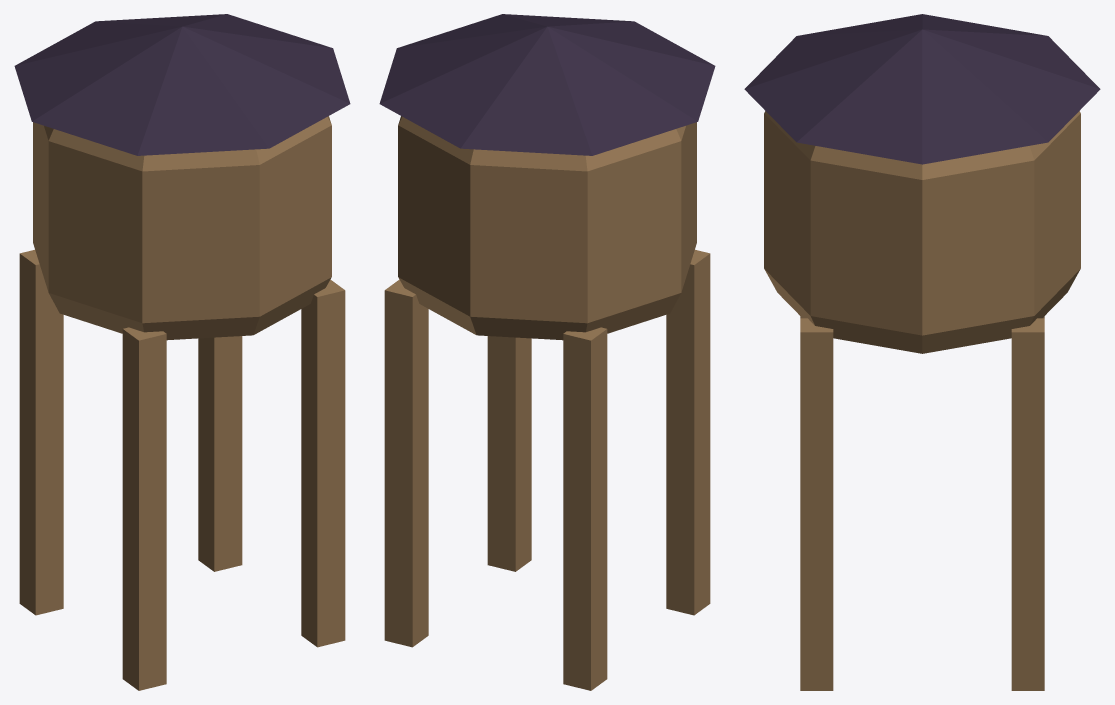
Rendered from water-tower.glb.
3 views of the same model, side by side, from view 1: azimuth 30°, elevation 25°; view 2: azimuth 150°, elevation 25°; view 3: azimuth 270°, elevation 25° (orthographic). The views are drawn at different scales.
Parts seen in each view (by area): view 1: wildwest-water-tower; view 2: wildwest-water-tower; view 3: wildwest-water-tower.
Part boxes in pixels (x1=…): wildwest-water-tower: x1=14, y1=14, x2=350, y2=690; wildwest-water-tower: x1=379, y1=14, x2=715, y2=690; wildwest-water-tower: x1=744, y1=14, x2=1100, y2=690.
Size of the model in its own units: 0.54 by 1.02 by 0.54.
